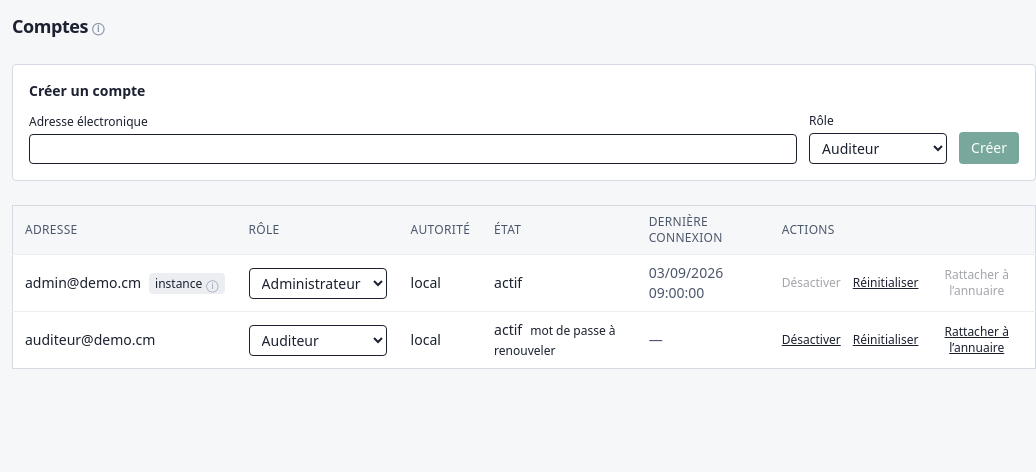
Scenario: gestion des comptes › remonte le refus de l’api en détail, sans le reformuler
The image size is (1036, 472).
Expected: the text "auditeur@demo.cm" is shown, 12,312 -> 237,368
Type "x@demo.cm" into the field labelled "Adresse électronique".
click(413, 149); type("x@demo.cm")  # box 29,134 -> 797,164
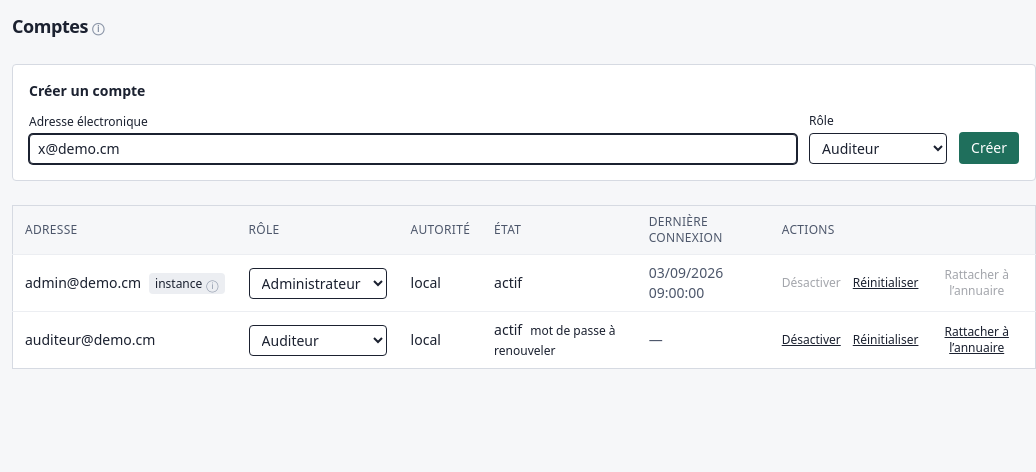
Click the button "Créer".
click(989, 148)  # box 959,132 -> 1019,164
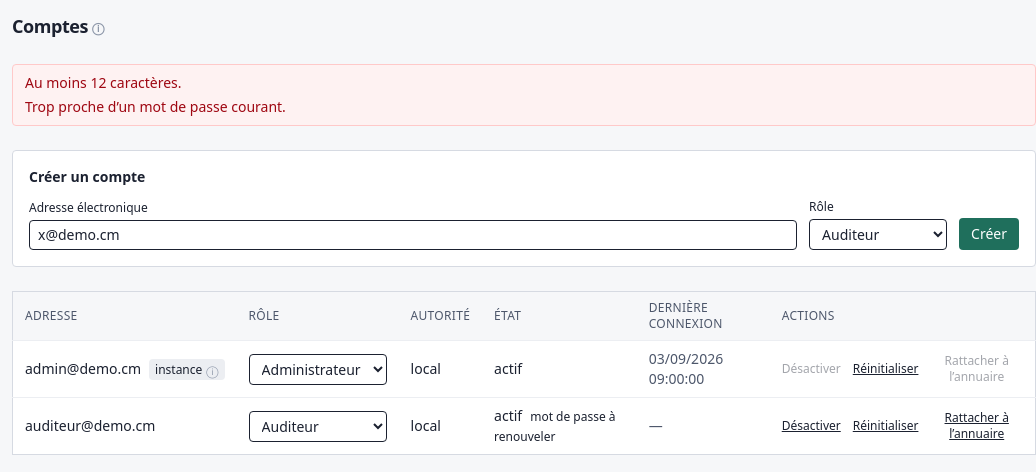
Now the message shows "Au moins 12 caractères.", box 25,73 -> 182,92
Now the message shows "Trop proche d’un mot de passe courant.", box 25,97 -> 286,116
